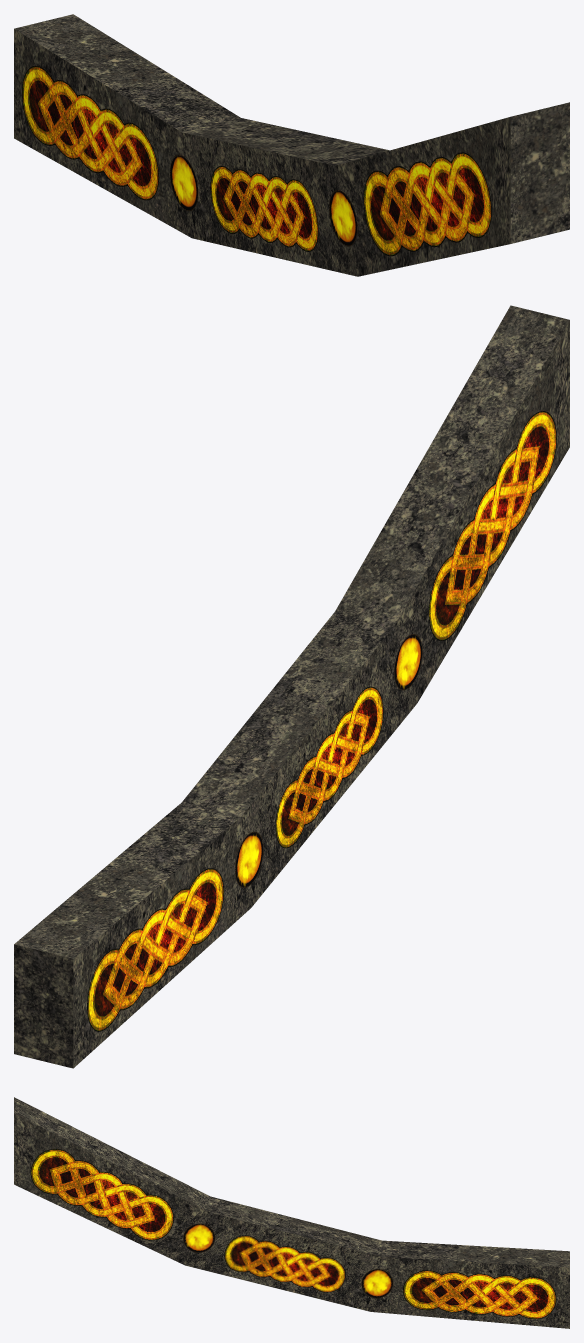
The model's file is mountain_ramp_border.gltf.
The picture shows the model from 3 angles, top to bottom: view 1: azimuth 30°, elevation 25°; view 2: azimuth 150°, elevation 25°; view 3: azimuth 270°, elevation 25°; orthographic projection. The views are drawn at different scales.
Visible parts, largest first — view 1: mountain_ramp_border_glb; view 2: mountain_ramp_border_glb; view 3: mountain_ramp_border_glb.
Boxes of the visible parts, bbox=[...] form: mountain_ramp_border_glb: bbox=[14, 14, 569, 276]; mountain_ramp_border_glb: bbox=[14, 305, 569, 1068]; mountain_ramp_border_glb: bbox=[14, 1097, 569, 1328].
Size of what is drawn, in the model's own units: 0.3041 by 1.72 by 4.02.
Materials: 2 (2 with a texture image).
